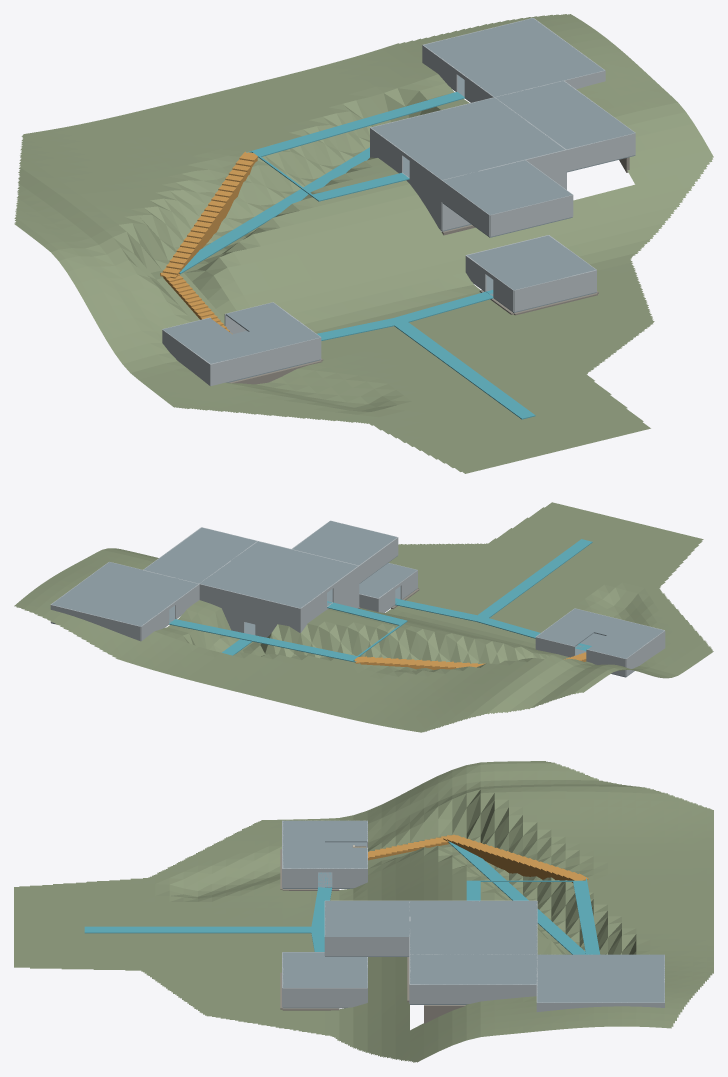
The model's file is benched-terrain.glb.
3 views of the same model, one above another, from view 1: azimuth 30°, elevation 25°; view 2: azimuth 150°, elevation 25°; view 3: azimuth 270°, elevation 25° (orthographic). The views are drawn at different scales.
Parts seen in each view (by area): view 1: Saved editor stair bench terrain WLD-03, Ceiling cap gallery, Ceiling cap chamber, Ceiling cap fork, Ceiling cap alcove, Ceiling cap wash, Wall shelter S, L15 support 0, L12 support 0, Wall wash S, Wall alcove S, Wall fork S (+14 smaller); view 2: Saved editor stair bench terrain WLD-03, Ceiling cap gallery, Ceiling cap chamber, Ceiling cap fork, Ceiling cap alcove, Wall gallery N, L12 support 0, Ceiling cap wash, Opened stair shell Wall shelter N, Wall chamber N, Ceiling cap shelter.003, Ceiling cap shelter.004 (+15 smaller); view 3: Saved editor stair bench terrain WLD-03, Ceiling cap gallery, Ceiling cap chamber, Ceiling cap fork, Ceiling cap alcove, Ceiling cap wash, Wall fork E, Wall alcove E, Wall wash E, L15 support 0, L12 support 0, Ceiling cap shelter (+9 smaller).
Boxes of the visible parts, x1,y1,x2,y2 form: Saved editor stair bench terrain WLD-03: (14, 14, 713, 473); Ceiling cap gallery: (371, 97, 564, 179); Ceiling cap chamber: (424, 18, 604, 96); Ceiling cap fork: (495, 80, 634, 149); Ceiling cap alcove: (443, 160, 572, 214); Ceiling cap wash: (467, 235, 595, 290); Wall shelter S: (210, 337, 320, 385); L15 support 0: (179, 147, 369, 274); L12 support 0: (246, 92, 464, 156); Wall wash S: (514, 270, 596, 311); Wall alcove S: (490, 195, 572, 236); Wall fork S: (566, 133, 635, 171); Saved editor stair bench terrain WLD-03: (14, 502, 713, 732); Ceiling cap gallery: (200, 541, 357, 608); Ceiling cap chamber: (51, 562, 197, 626); Ceiling cap fork: (144, 527, 256, 583); Ceiling cap alcove: (292, 521, 396, 565); Wall gallery N: (199, 583, 300, 626); L12 support 0: (169, 619, 357, 662); Ceiling cap wash: (359, 563, 416, 598); Opened stair shell Wall shelter N: (535, 637, 625, 676); Wall chamber N: (50, 604, 140, 641); Ceiling cap shelter.003: (536, 623, 593, 646); Ceiling cap shelter.004: (556, 608, 612, 631); Saved editor stair bench terrain WLD-03: (14, 761, 713, 1062); Ceiling cap gallery: (410, 901, 537, 954); Ceiling cap chamber: (537, 954, 664, 1002); Ceiling cap fork: (410, 954, 537, 984); Ceiling cap alcove: (325, 901, 409, 936); Ceiling cap wash: (282, 952, 367, 987); Wall fork E: (410, 984, 537, 1003); Wall alcove E: (325, 937, 409, 956); Wall wash E: (282, 988, 367, 1007); L15 support 0: (448, 841, 585, 954); L12 support 0: (573, 878, 600, 954); Ceiling cap shelter: (325, 820, 367, 842).
Size of the model in its own units: 91 by 12.65 by 99.
Materials: 20 (12 with a texture image).
